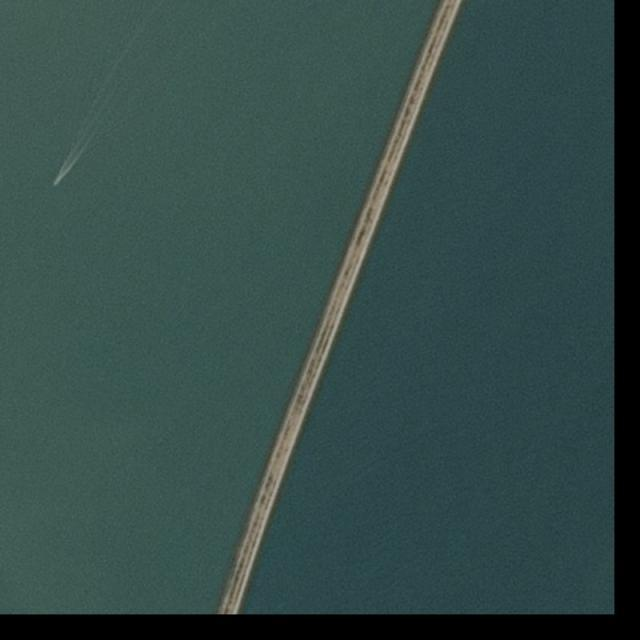ship: (52, 179, 59, 186)
